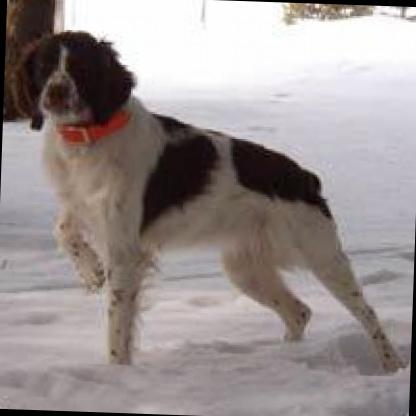Brittany_spaniel: (6, 28, 410, 370)
